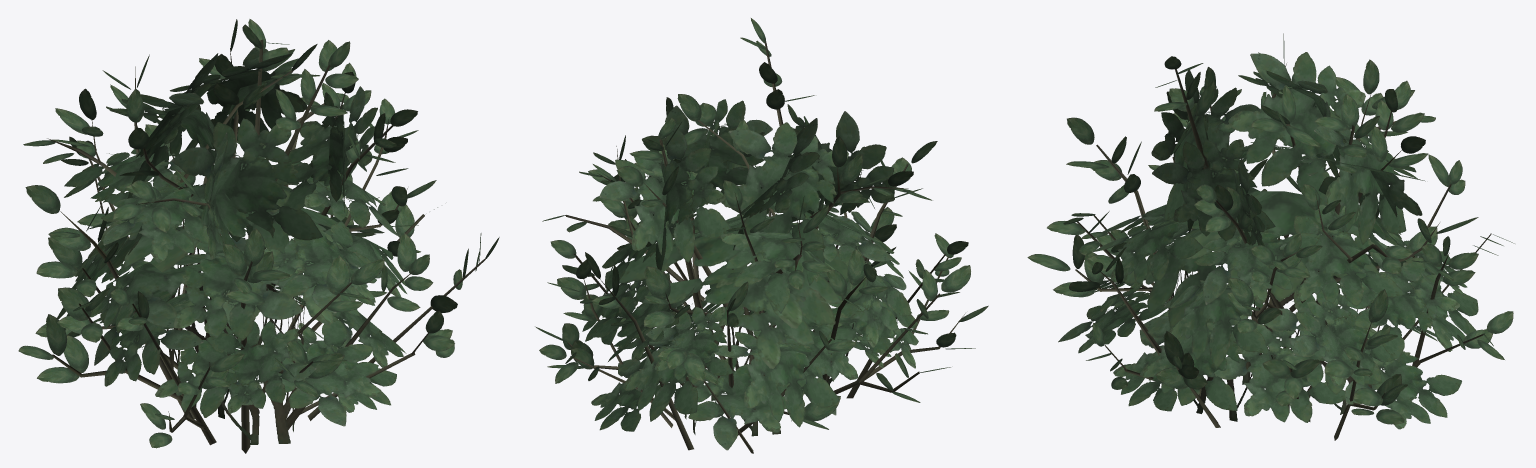
Rendered from Bush1.fbx.
3 renders of one model, left to right at view 1: azimuth 30°, elevation 25°; view 2: azimuth 150°, elevation 25°; view 3: azimuth 270°, elevation 25°, orthographic. The views are drawn at different scales.
Parts seen in each view (by area): view 1: SM_cmn_mount_Bush_01a; view 2: SM_cmn_mount_Bush_01a; view 3: SM_cmn_mount_Bush_01a.
Boxes of the visible parts, x1,y1,x2,y2 form: SM_cmn_mount_Bush_01a: (18,19,499,453); SM_cmn_mount_Bush_01a: (535,18,988,453); SM_cmn_mount_Bush_01a: (1027,33,1514,440).
Bounding box in the file's own units: 231 × 198 × 231.
